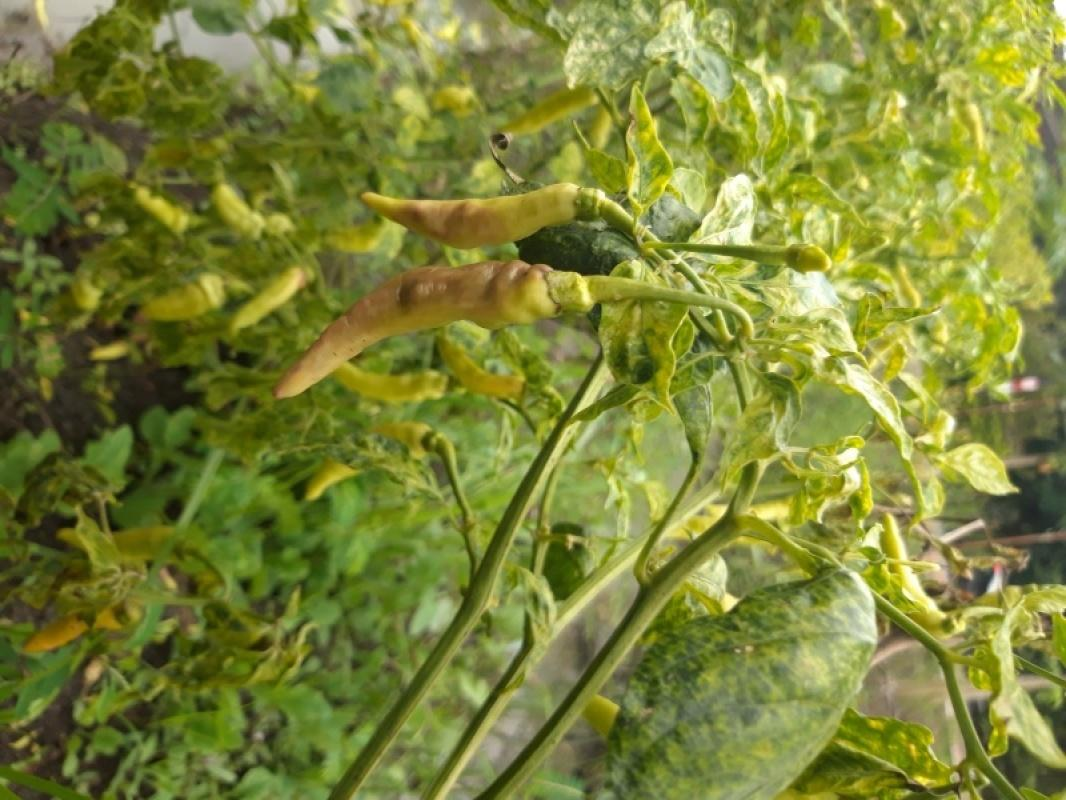antraknosa: (364, 179, 580, 250)
cabai_normal: (302, 422, 432, 503), (435, 332, 524, 398), (229, 268, 309, 330), (208, 182, 293, 238), (336, 361, 448, 403), (139, 272, 225, 320), (128, 181, 190, 235)
lalat_buah: (269, 256, 561, 403)
